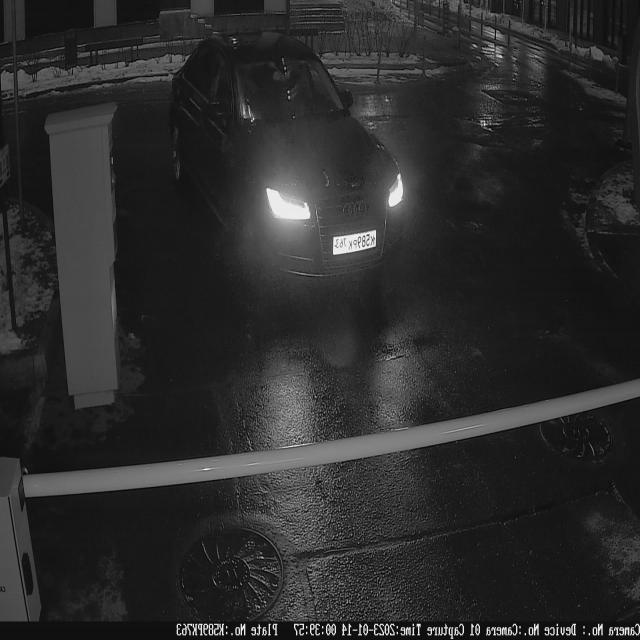car-plate-numbers: (331, 228, 381, 260)
